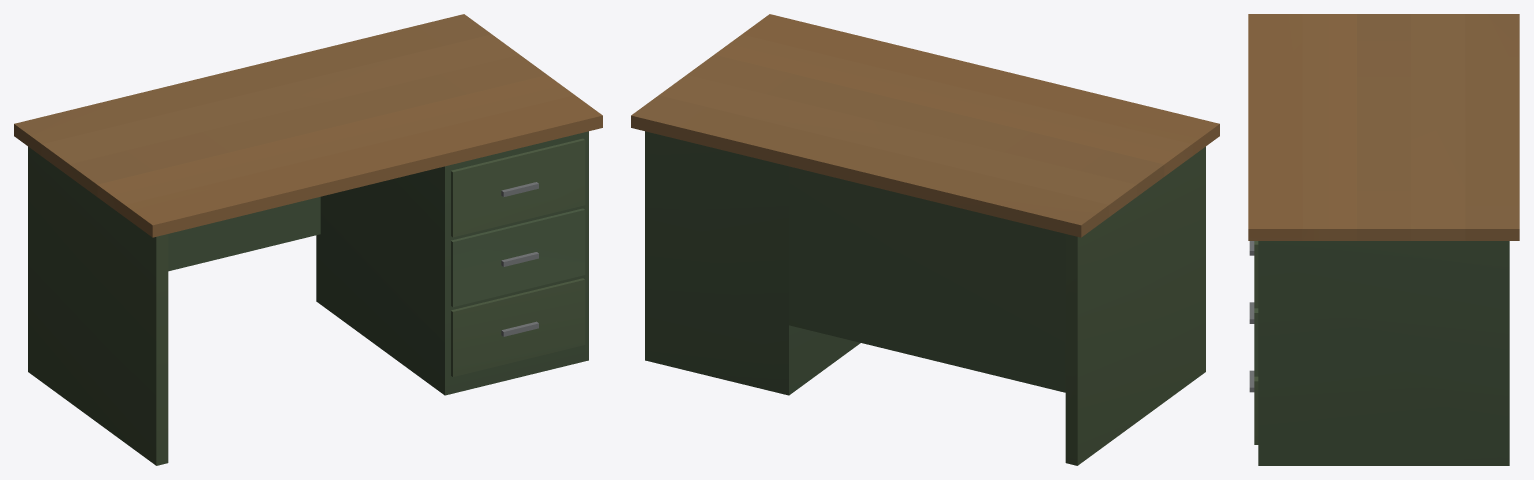
Rendered from table.desk.green.glb.
3 views of the same model, side by side, from view 1: azimuth 30°, elevation 25°; view 2: azimuth 150°, elevation 25°; view 3: azimuth 270°, elevation 25° (orthographic). The views are drawn at different scales.
Parts seen in each view (by area): view 1: table_desk_green; view 2: table_desk_green; view 3: table_desk_green.
Part boxes in pixels (box(x1,y1,x2,y2)): table_desk_green: box(14, 14, 602, 465); table_desk_green: box(631, 14, 1219, 465); table_desk_green: box(1248, 14, 1519, 465).
Size of what is drawn, in the model's own units: 1.53 by 0.8 by 0.816.
